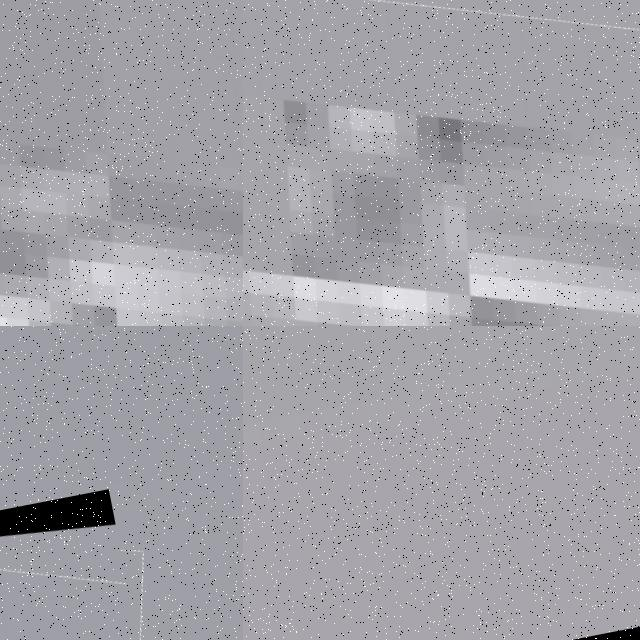drone: (243, 0, 640, 326), (0, 0, 243, 326), (0, 489, 195, 640)
